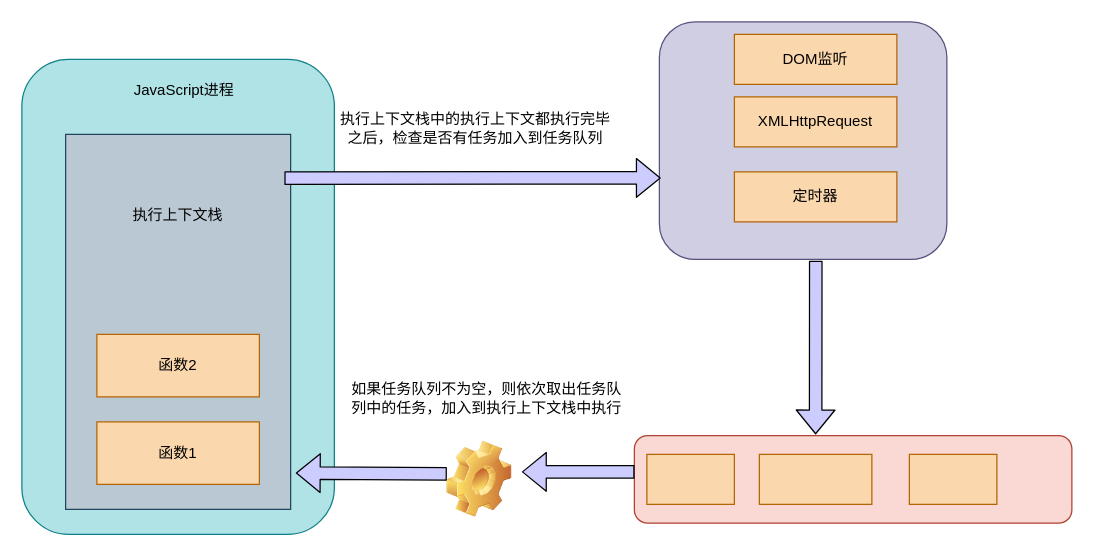
This 1094x556 diagram has some shape labels left out. Each missing label, with the centre of its shape:
"ajax 回调函数" goes at (815,478).
"onClick" goes at (690,478).
"timer函数" goes at (952,478).
